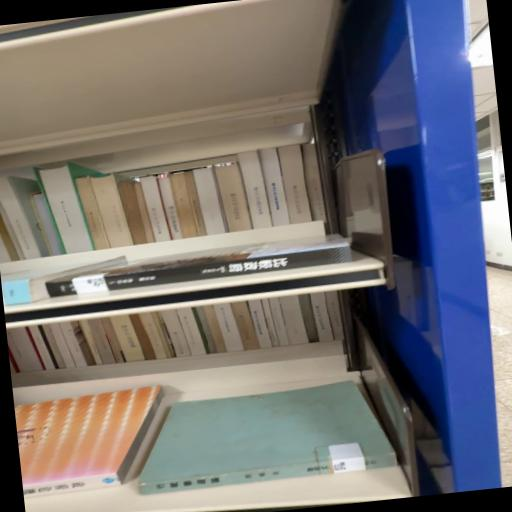flat: (139, 382, 398, 495), (47, 236, 353, 298), (15, 387, 164, 501)
